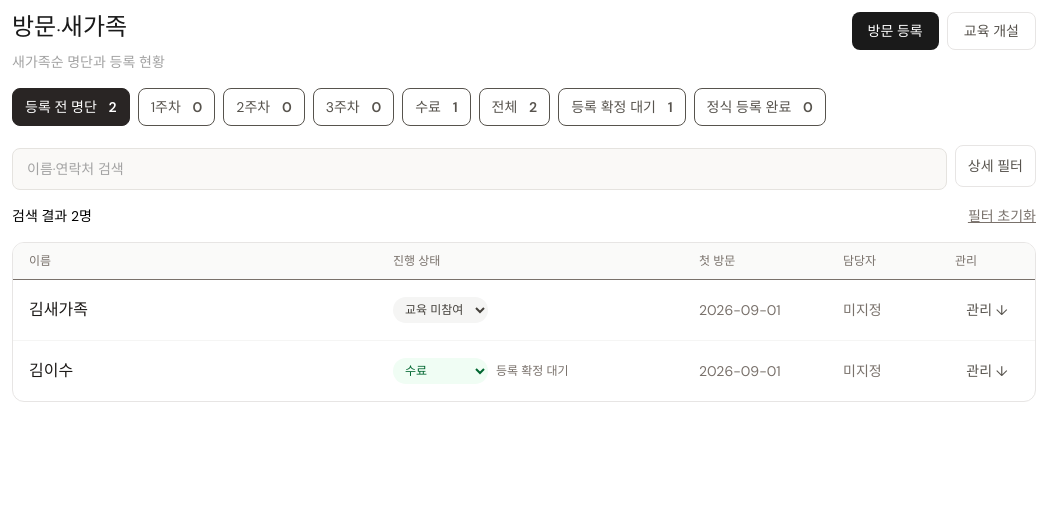
Test case: 등록 확정 대기 필터는 이수자만 표시한다
Click the tab "등록 확정 대기 1".
click(622, 107)  # box 558,88 -> 686,126
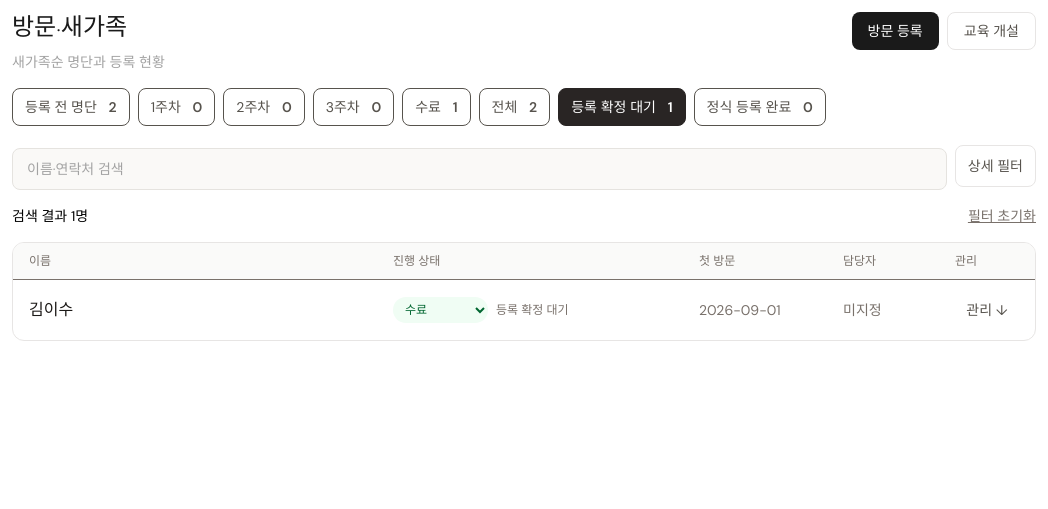
Check: the link with aria-label "김이수 상세 보기" is shown, box 29,299 -> 73,320
Click the button with aria-label "김이수 관리".
click(987, 310)  # box 955,292 -> 1019,328
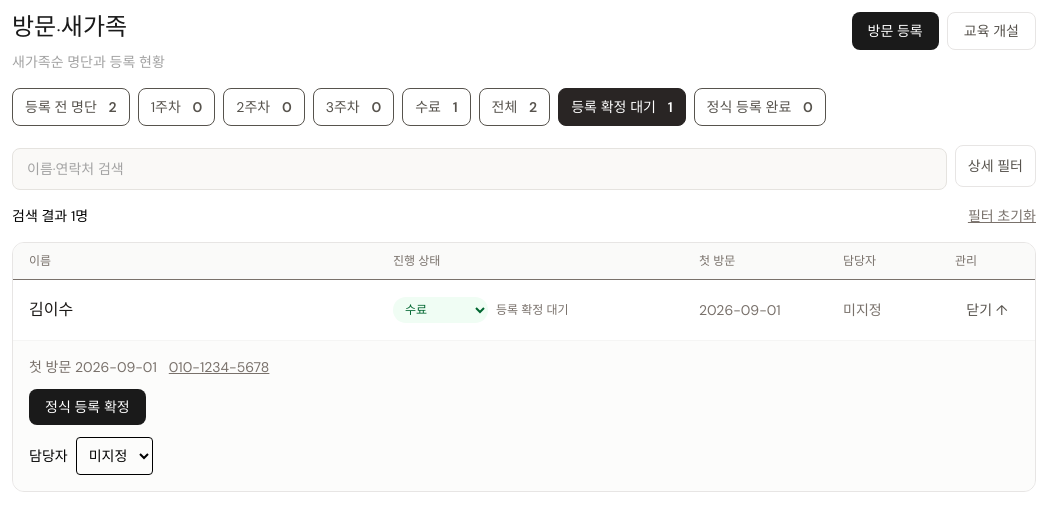
Check: the button "정식 등록 확정" is shown, box 29,389 -> 146,425
